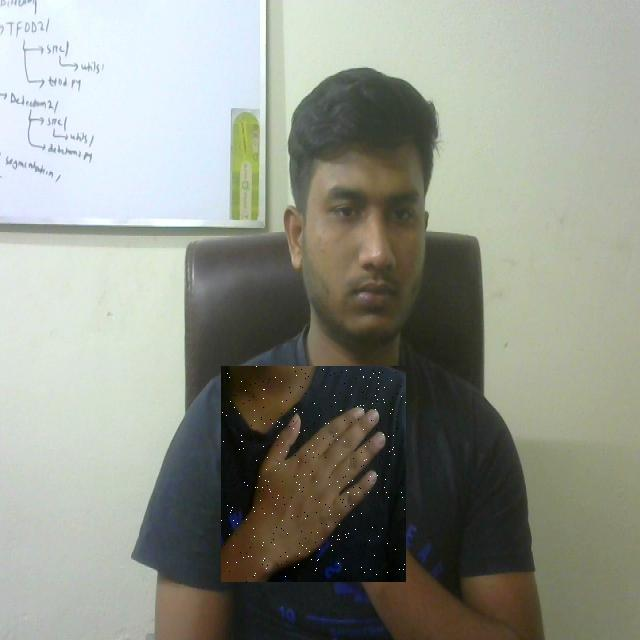Please: (221, 367, 406, 582)
